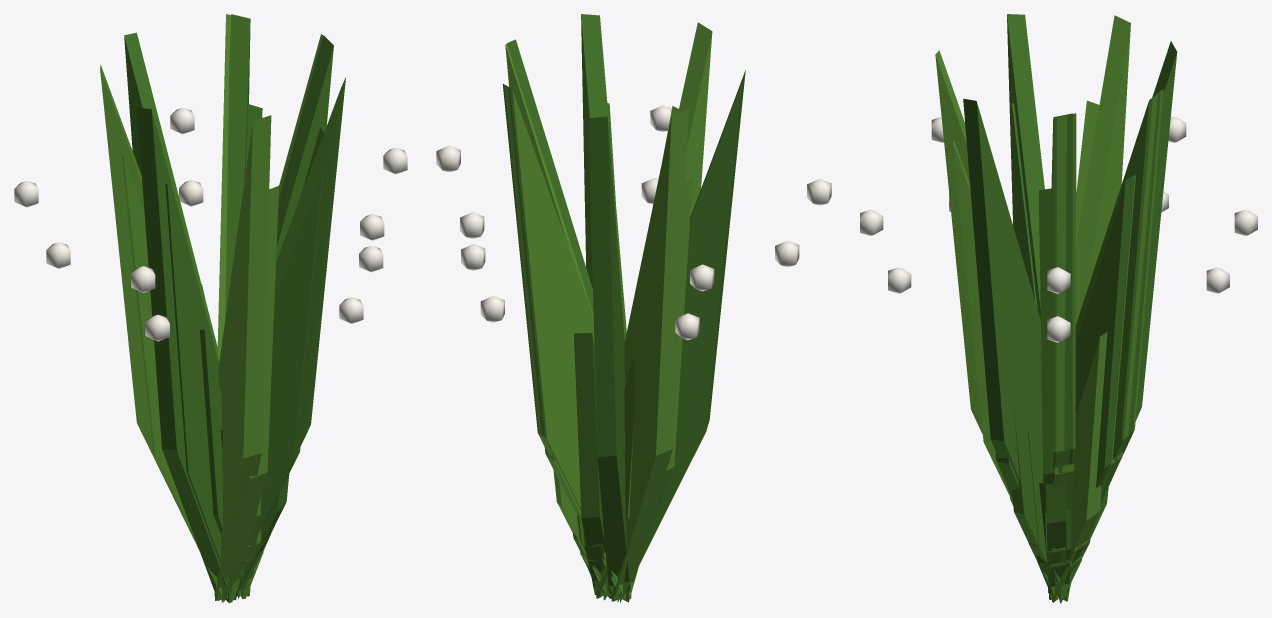
The model's file is Crop_Grain_Buckwheat.fbx.
3 renders of one model, left to right at view 1: azimuth 30°, elevation 25°; view 2: azimuth 150°, elevation 25°; view 3: azimuth 270°, elevation 25°, orthographic.
Parts seen in each view (by area): view 1: Crop_Grain_Buckwheat__S4, Crop_Grain_Buckwheat__S3, Crop_Grain_Buckwheat__S2; view 2: Crop_Grain_Buckwheat__S4, Crop_Grain_Buckwheat__S2, Crop_Grain_Buckwheat__S3, Crop_Grain_Buckwheat__S5; view 3: Crop_Grain_Buckwheat__S4, Crop_Grain_Buckwheat__S3, Crop_Grain_Buckwheat__S2, Crop_Grain_Buckwheat__S5, Crop_Grain_Buckwheat__S1.
Boxes of the visible parts, <box> form: Crop_Grain_Buckwheat__S4: <box>14,14,407,603</box>; Crop_Grain_Buckwheat__S3: <box>46,104,384,602</box>; Crop_Grain_Buckwheat__S2: <box>200,284,289,598</box>; Crop_Grain_Buckwheat__S4: <box>436,14,831,602</box>; Crop_Grain_Buckwheat__S2: <box>553,332,633,599</box>; Crop_Grain_Buckwheat__S3: <box>460,103,799,602</box>; Crop_Grain_Buckwheat__S5: <box>573,513,609,599</box>; Crop_Grain_Buckwheat__S4: <box>860,14,1257,480</box>; Crop_Grain_Buckwheat__S3: <box>888,100,1229,593</box>; Crop_Grain_Buckwheat__S2: <box>1009,332,1108,601</box>; Crop_Grain_Buckwheat__S5: <box>1028,431,1090,602</box>; Crop_Grain_Buckwheat__S1: <box>1035,483,1081,603</box>.
Size of the model in its own units: 0.1546 by 0.2376 by 0.1616.
